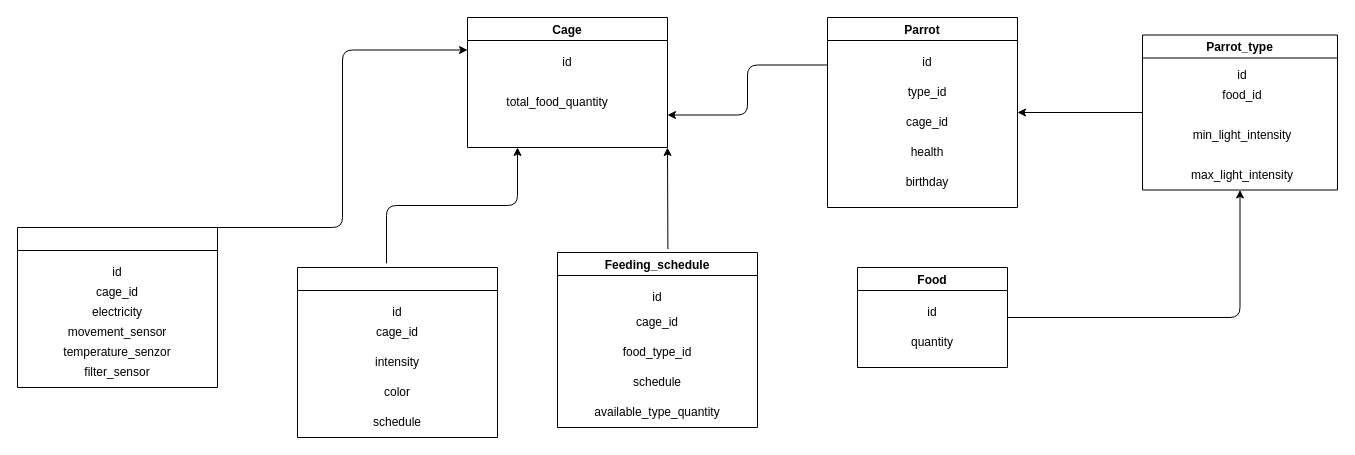
The diagram is 1355 pixels wide and 455 high, and some of its shapes have lost their labels. The shapes that lost their labels are listed below. From the top down, each one's box as (x1, y1, x2, y2) in pixels, then its label:
(16, 226, 218, 388): Facility
(296, 266, 498, 438): Light
